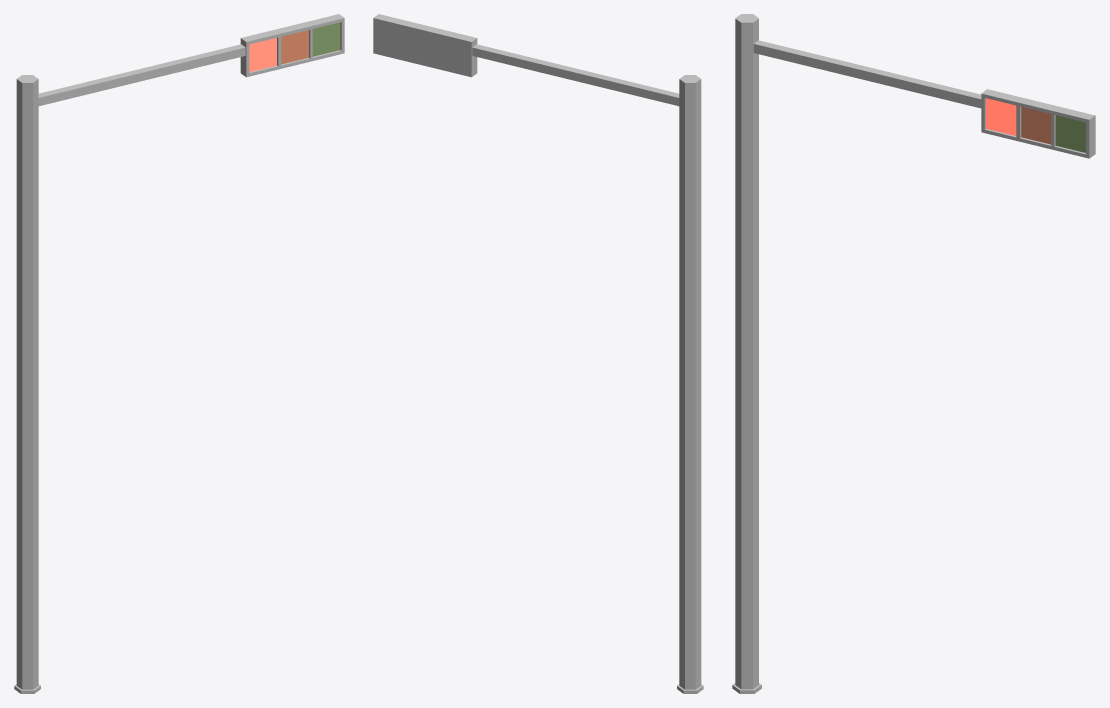
File: Semaforo2.fbx
The picture shows the model from 3 angles, left to right: view 1: azimuth 30°, elevation 25°; view 2: azimuth 150°, elevation 25°; view 3: azimuth 330°, elevation 25°; orthographic projection. The views are drawn at different scales.
Visible parts, largest first — view 1: car_light_red; view 2: car_light_red; view 3: car_light_red.
Part boxes in pixels (x1,y1,x2,y2): car_light_red: (14, 14, 344, 693); car_light_red: (373, 14, 703, 693); car_light_red: (732, 14, 1095, 693).
Bounding box in the file's own units: 360 × 647 × 25.7.
